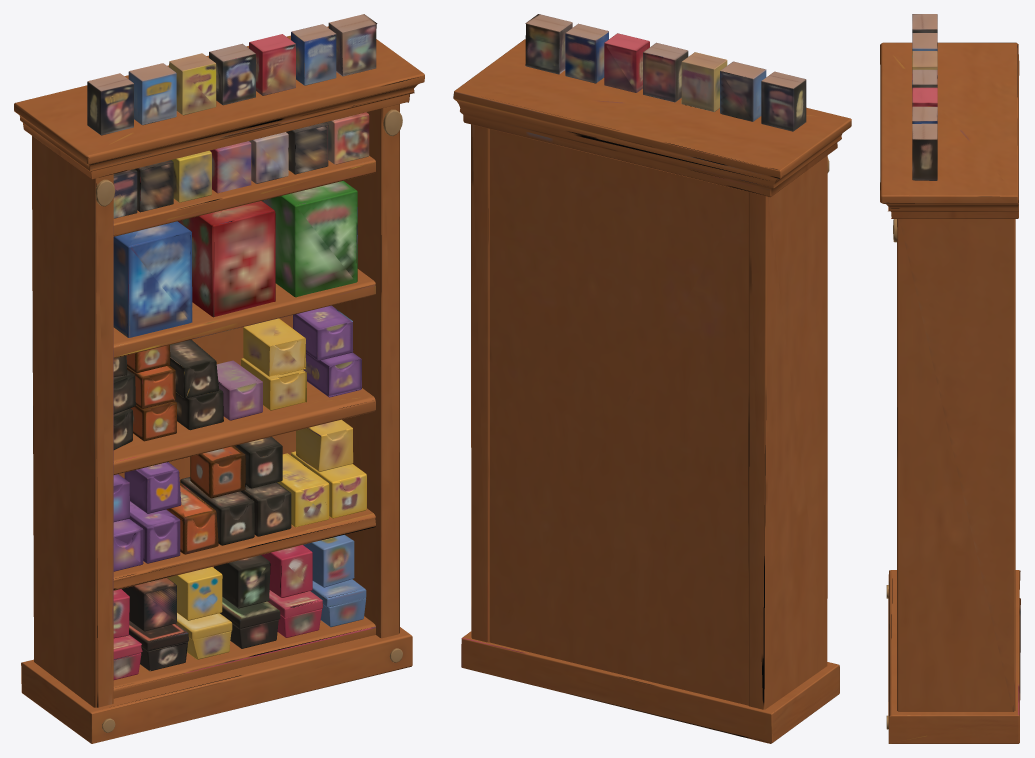
Rendered from shop_shelf.glb.
3 renders of one model, left to right at view 1: azimuth 30°, elevation 25°; view 2: azimuth 150°, elevation 25°; view 3: azimuth 270°, elevation 25°, orthographic. The views are drawn at different scales.
Parts seen in each view (by area): view 1: geometry_0; view 2: geometry_0; view 3: geometry_0.
Boxes of the visible parts, x1=… form: geometry_0: x1=14, y1=14, x2=424, y2=743; geometry_0: x1=453, y1=14, x2=851, y2=743; geometry_0: x1=880, y1=14, x2=1020, y2=743.
Bounding box in the file's own units: 0.5273 × 0.9517 × 0.2041.
Materials: 1 (1 with a texture image).
